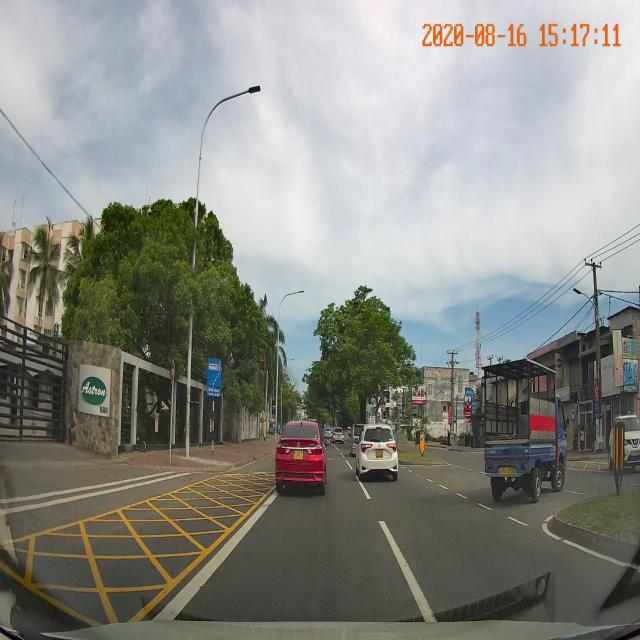Jeltaya razmetka: (0, 466, 294, 639)
